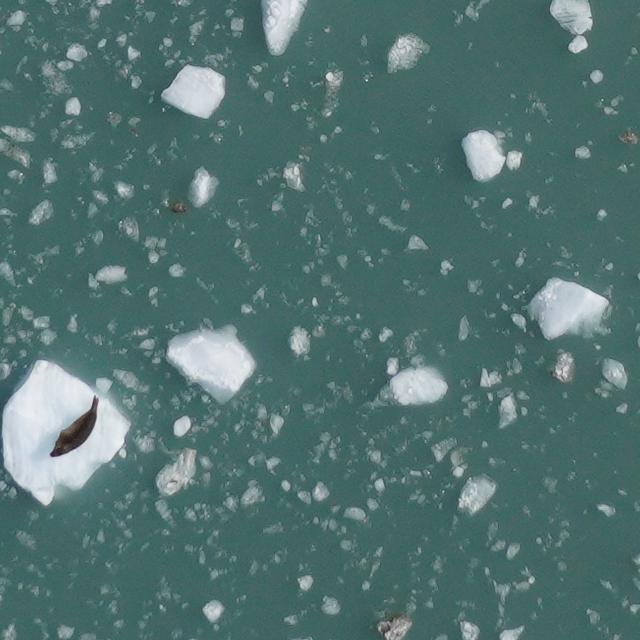seal: (47, 392, 104, 462)
